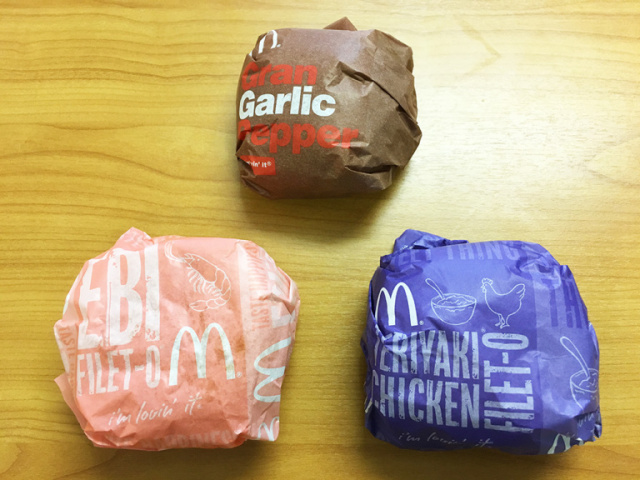mcdonalds: (167, 323, 237, 384), (253, 335, 288, 401), (374, 281, 422, 328)
